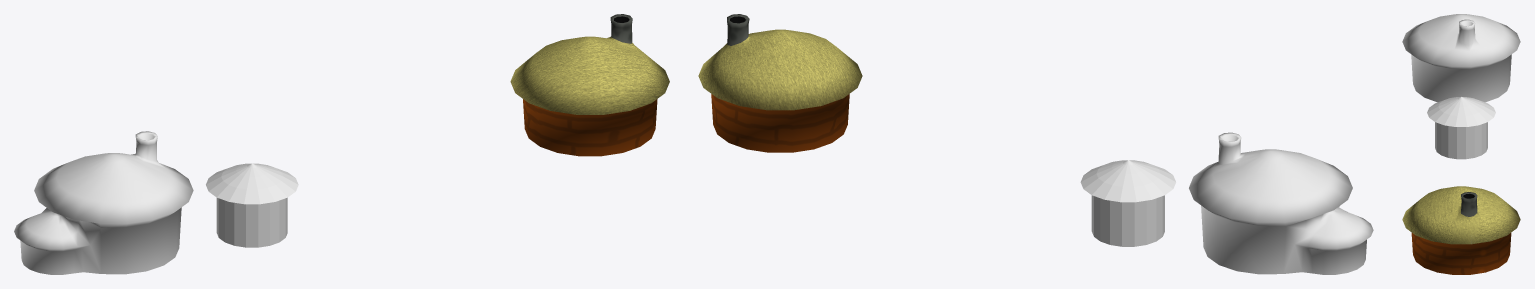
Rendered from HutSingle.fbx.
3 views of the same model, side by side, from view 1: azimuth 30°, elevation 25°; view 2: azimuth 150°, elevation 25°; view 3: azimuth 270°, elevation 25° (orthographic). The views are drawn at different scales.
Parts seen in each view (by area): view 1: Cylinder.001, Cylinder.002, Cylinder; view 2: Cylinder.001, Cylinder.002, Cylinder; view 3: Cylinder.001, Cylinder.002, Cylinder.
Part boxes in pixels (x1=…): Cylinder.001: x1=14, y1=131, x2=193, y2=274; Cylinder.002: x1=510, y1=14, x2=669, y2=156; Cylinder: x1=206, y1=163, x2=298, y2=247; Cylinder.001: x1=1189, y1=132, x2=1373, y2=274; Cylinder.002: x1=698, y1=14, x2=862, y2=152; Cylinder: x1=1080, y1=160, x2=1175, y2=246; Cylinder.001: x1=1402, y1=14, x2=1520, y2=102; Cylinder.002: x1=1402, y1=186, x2=1520, y2=274; Cylinder: x1=1427, y1=97, x2=1495, y2=159.
Size of the model in its own units: 1103 by 197 by 239.
1 material, 1 textured.
